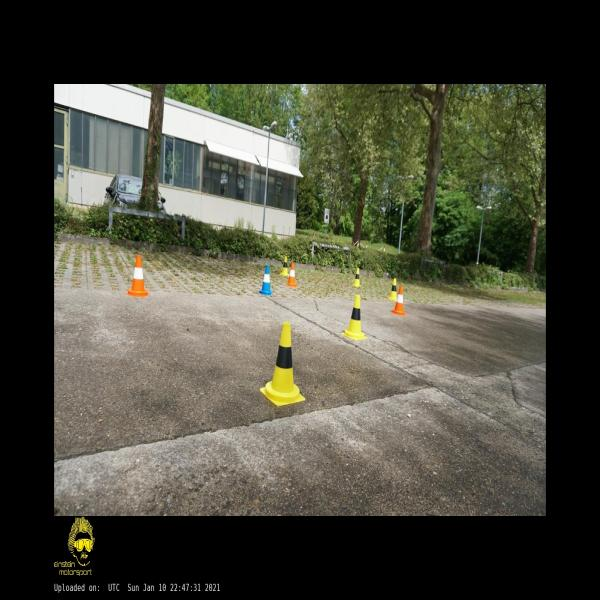blue_cone: (260, 265, 273, 295)
orange_cone: (127, 255, 149, 296), (391, 286, 406, 315), (287, 263, 297, 287)
yellow_cone: (260, 322, 304, 406), (343, 294, 366, 340), (388, 278, 397, 300), (352, 268, 361, 288), (281, 256, 289, 276)
